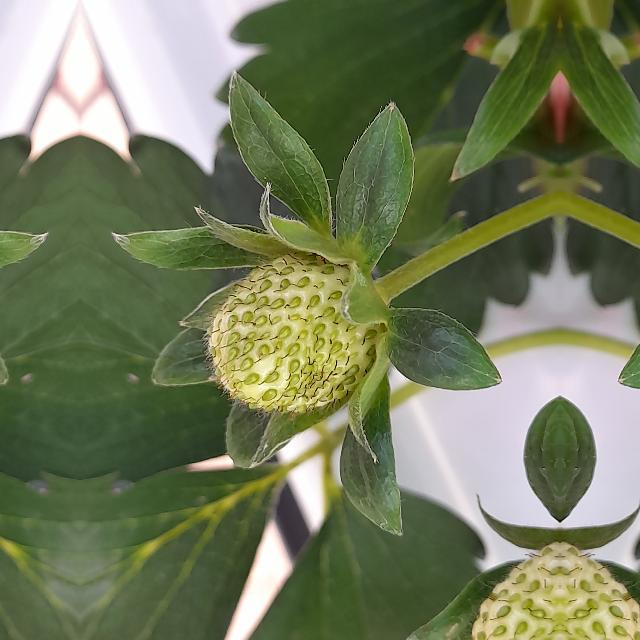Health_25: (200, 249, 388, 423)
